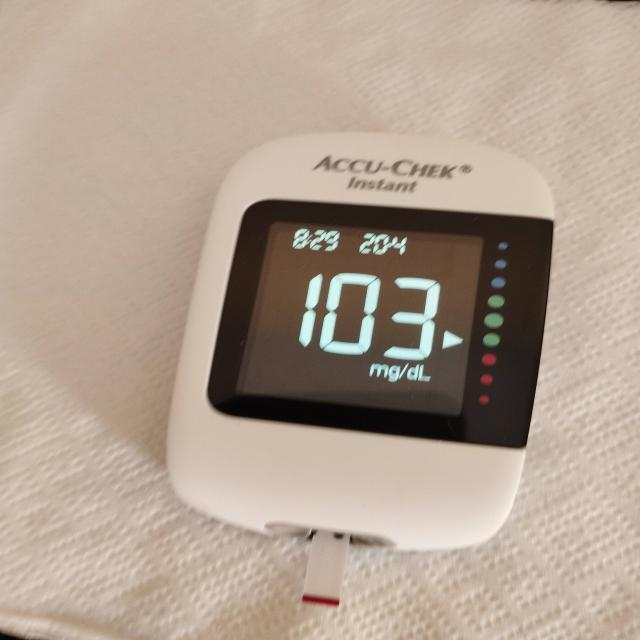gluco: (166, 133, 557, 553)
